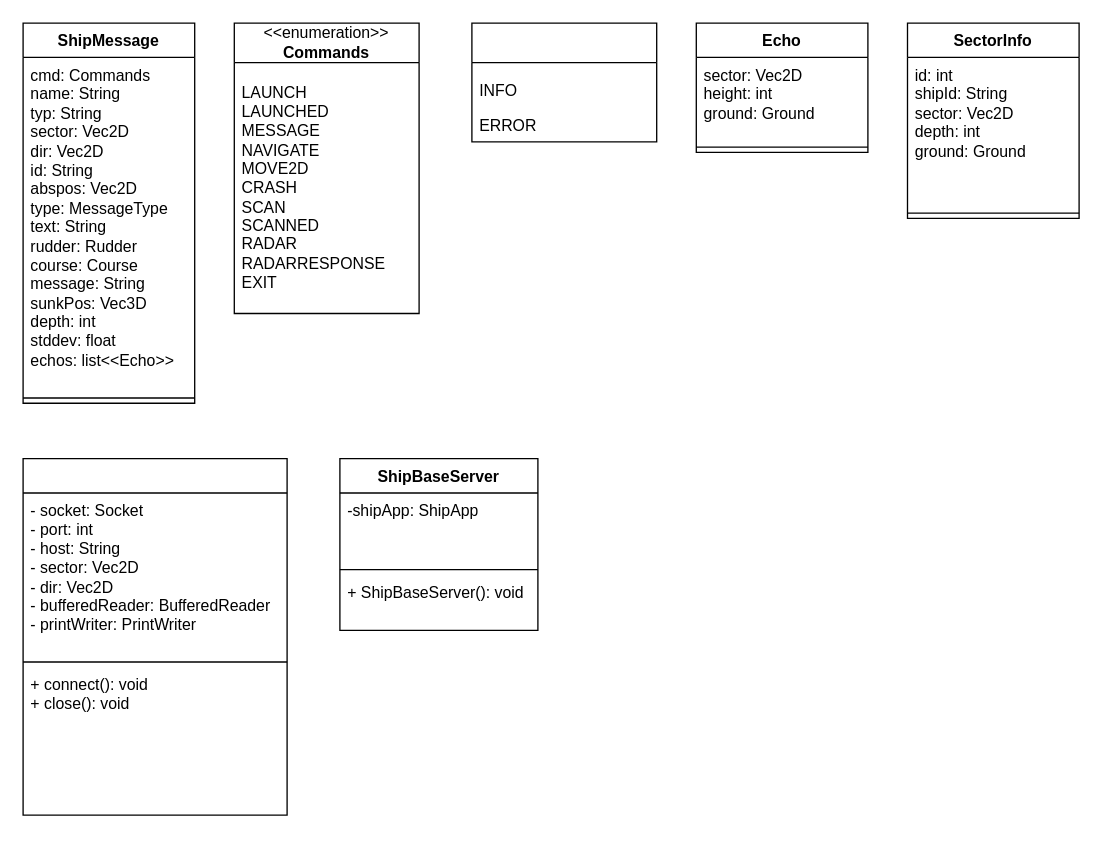
Some shapes in this 1102 by 842 pixel diagram are drawn without their labels. Here are the shapes that lost their labels. From the top down, the box of each, then its label:
(471, 22, 657, 142): <<enumeration>> MessageType
(22, 457, 287, 815): ShipApp
